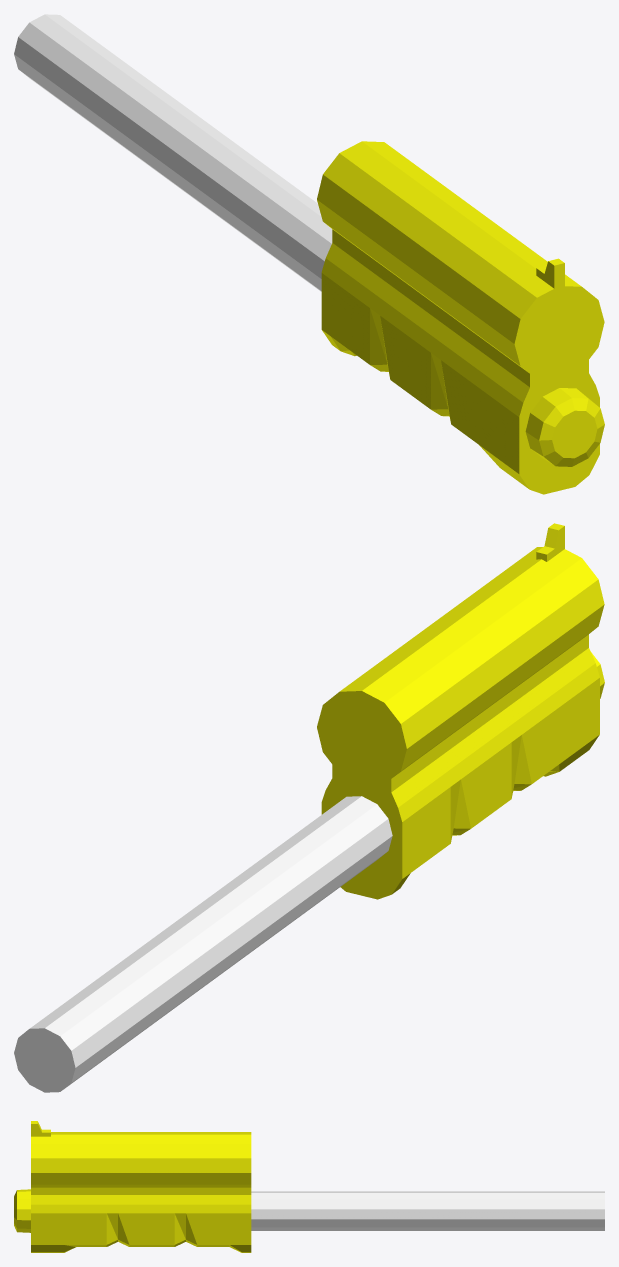
File: Proto_Water_Gun_Pump_01.fbx
The picture shows the model from 3 angles, top to bottom: view 1: azimuth 30°, elevation 25°; view 2: azimuth 150°, elevation 25°; view 3: azimuth 270°, elevation 25°; orthographic projection. The views are drawn at different scales.
Visible parts, largest first — view 1: Proto_Water_Gun_Pump_01; view 2: Proto_Water_Gun_Pump_01; view 3: Proto_Water_Gun_Pump_01.
Part boxes in pixels (box(x1,y1,x2,y2)): Proto_Water_Gun_Pump_01: box(14, 14, 604, 494); Proto_Water_Gun_Pump_01: box(14, 523, 604, 1092); Proto_Water_Gun_Pump_01: box(14, 1121, 604, 1252).
Bounding box in the file's own units: 0.0344 × 0.0825 × 0.35.
